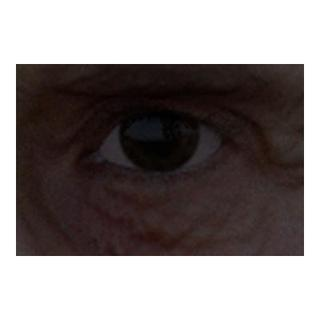pupil: (139, 114, 178, 152)
